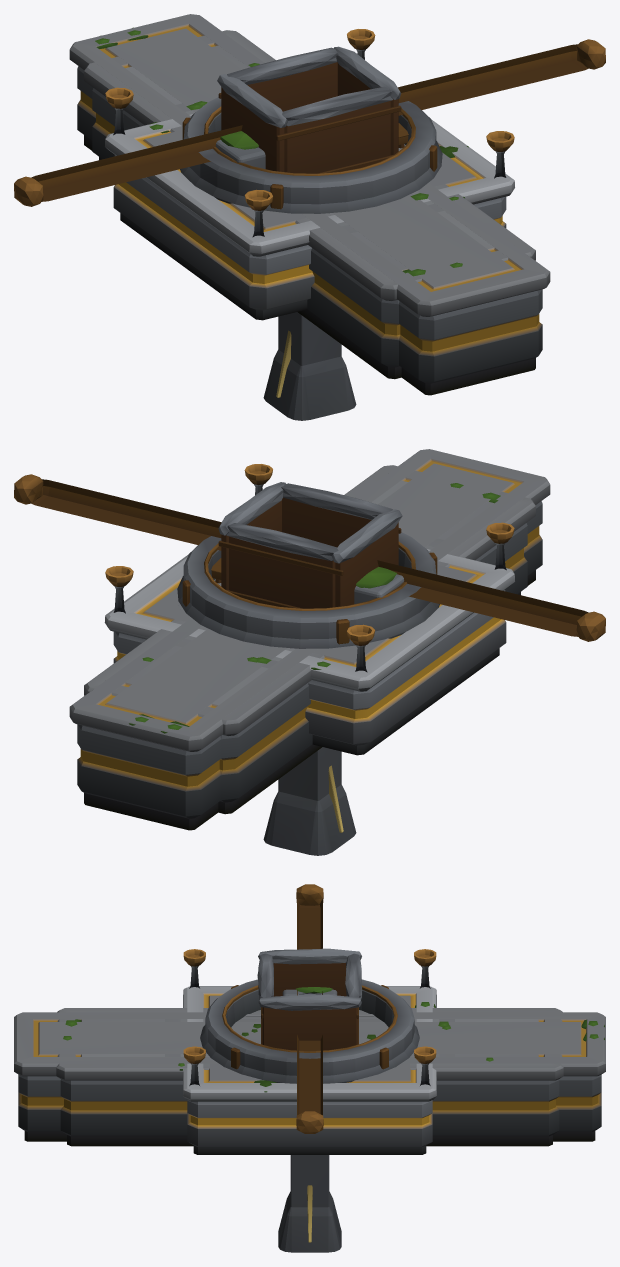
File: temple-2-A9WjtsCX.glb
The picture shows the model from 3 angles, top to bottom: view 1: azimuth 30°, elevation 25°; view 2: azimuth 150°, elevation 25°; view 3: azimuth 270°, elevation 25°; orthographic projection. The views are drawn at different scales.
Visible parts, largest first — view 1: block_6x2x28#0, pad_12x2x12#0, hopper_4x3#0, block_7x2x24#0, geyserVent_8#0, mount_12.7#0, support_1_square#0, boltPost_#0; view 2: block_6x2x28#0, pad_12x2x12#0, hopper_4x3#0, block_7x2x24#0, geyserVent_8#0, mount_12.7#0, support_1_square#0, boltPost_#0; view 3: block_6x2x28#0, block_7x2x24#0, pad_12x2x12#0, geyserVent_8#0, hopper_4x3#0, support_1_square#0, mount_12.7#0.
Boxes of the visible parts, x1=… form: block_6x2x28#0: x1=69, y1=14, x2=550, y2=395; pad_12x2x12#0: x1=105, y1=29, x2=514, y2=320; hopper_4x3#0: x1=217, y1=46, x2=401, y2=173; block_7x2x24#0: x1=84, y1=30, x2=535, y2=379; geyserVent_8#0: x1=180, y1=97, x2=442, y2=213; mount_12.7#0: x1=14, y1=39, x2=605, y2=206; support_1_square#0: x1=263, y1=312, x2=356, y2=420; boltPost_#0: x1=215, y1=131, x2=265, y2=168; block_6x2x28#0: x1=69, y1=449, x2=550, y2=830; pad_12x2x12#0: x1=104, y1=464, x2=514, y2=755; hopper_4x3#0: x1=218, y1=482, x2=402, y2=608; block_7x2x24#0: x1=84, y1=465, x2=535, y2=814; geyserVent_8#0: x1=177, y1=532, x2=439, y2=648; mount_12.7#0: x1=14, y1=474, x2=605, y2=641; support_1_square#0: x1=263, y1=747, x2=356, y2=855; boltPost_#0: x1=354, y1=567, x2=404, y2=603; block_6x2x28#0: x1=14, y1=1012, x2=605, y2=1141; block_7x2x24#0: x1=56, y1=1008, x2=563, y2=1146; pad_12x2x12#0: x1=183, y1=949, x2=436, y2=1154; geyserVent_8#0: x1=200, y1=979, x2=419, y2=1083; hopper_4x3#0: x1=257, y1=948, x2=361, y2=1050; support_1_square#0: x1=278, y1=1155, x2=341, y2=1252; mount_12.7#0: x1=296, y1=884, x2=323, y2=1133.
Bounding box in the file's own units: 26.3 × 13.88 × 28.
